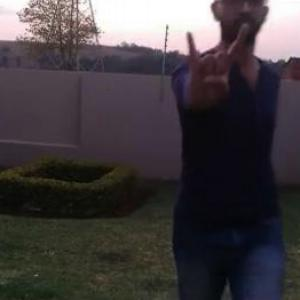takeoff-hand: (178, 20, 250, 104)
